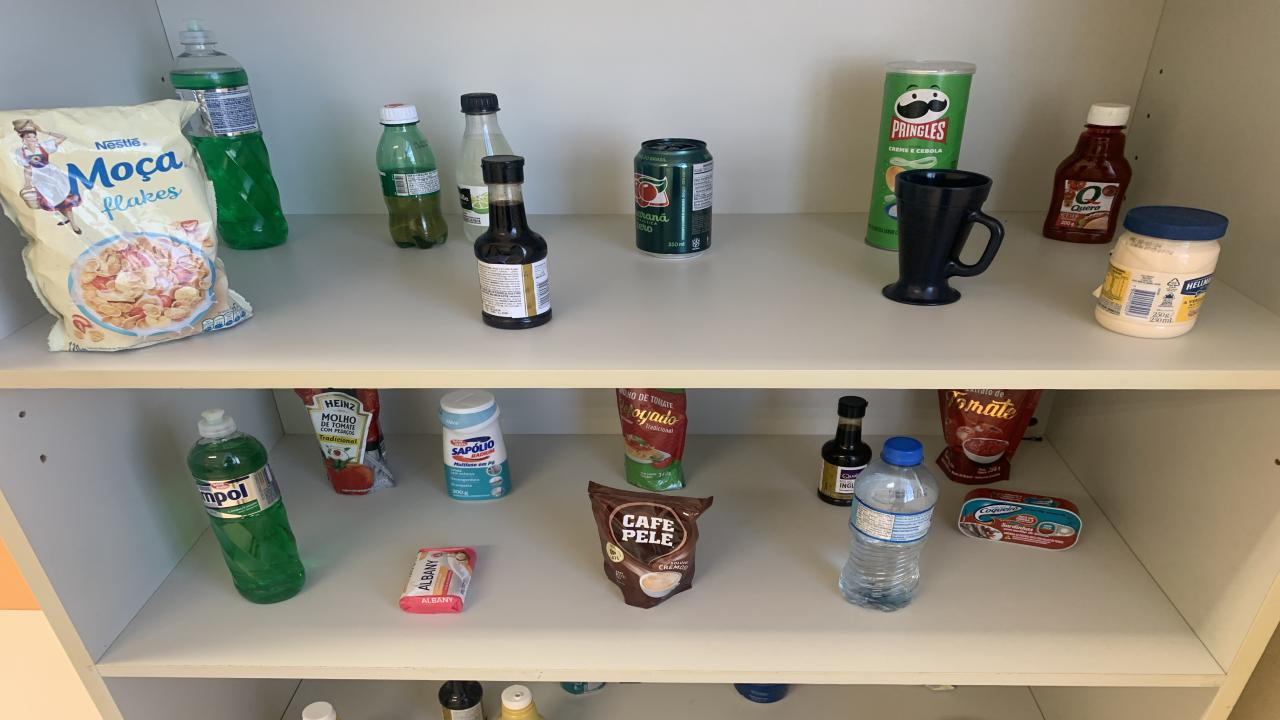Cleaner-Cleanup_Items: (440, 390, 510, 501)
Coffee-Pantry_Items: (588, 482, 712, 608)
Detergent-Cleanup_Items: (170, 21, 288, 249), (188, 409, 305, 604)
English_Sauce-Pantry_Items: (475, 156, 552, 330), (818, 396, 872, 506), (438, 681, 485, 720)
Flakes-Snacks: (0, 99, 250, 351)
Guarana-Drinks: (378, 105, 448, 249)
Guarana_Can-Drinks: (632, 139, 712, 257)
Ketchup-Pantry_Items: (1042, 103, 1132, 244)
Mayonnaise-Pantry_Items: (1095, 206, 1228, 338)
Mustard-Pantry_Items: (498, 684, 545, 720), (302, 701, 338, 720)
Pringles-Snacks: (865, 62, 975, 251)
Soap-Cleanup_Items: (400, 548, 475, 613)
Soda-Drinks: (455, 92, 512, 242)
Tea-Drinks: (560, 681, 605, 696)
Tomato_Sauce-Pantry_Items: (295, 388, 395, 495), (938, 390, 1042, 486), (615, 388, 688, 491)
Tonic-Drinks: (735, 682, 788, 703)
Tuna_Can-Pantry_Items: (958, 488, 1082, 549)
Water_Bottle-Drinks: (840, 437, 938, 611)
